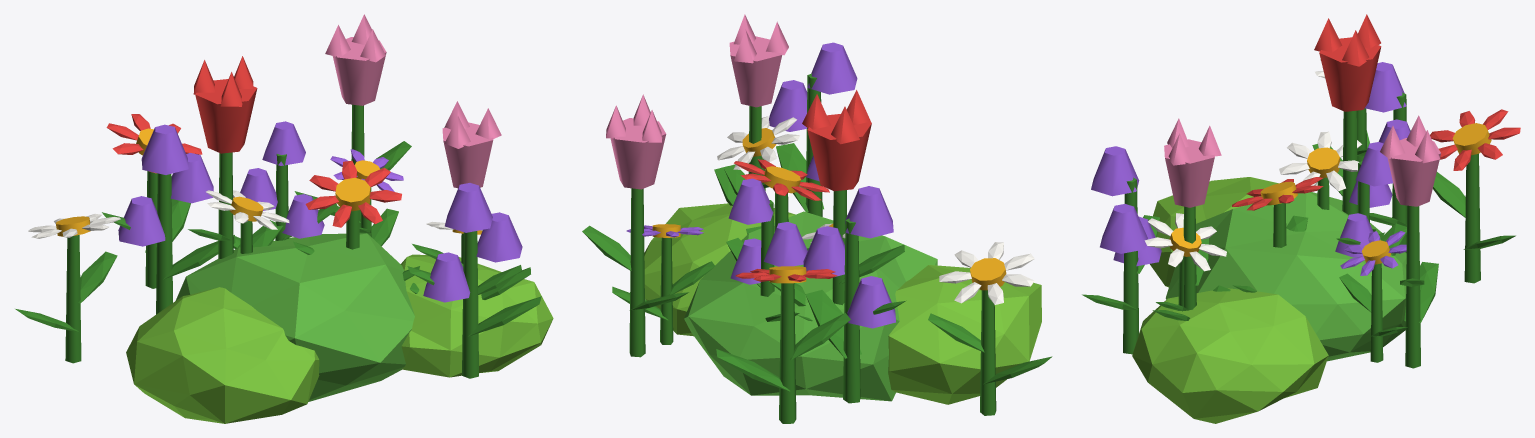
The model's file is macizo_flores_v1.glb.
3 renders of one model, left to right at view 1: azimuth 30°, elevation 25°; view 2: azimuth 150°, elevation 25°; view 3: azimuth 270°, elevation 25°, orthographic. The views are drawn at different scales.
Parts seen in each view (by area): view 1: mata_1, mata_3, tallo (×7), mata_2, copa (×3), campana_1 (×3), campana_3 (×3), campana_2 (×3), hoja_1 (×4), centro (×2), hoja_2 (×2); view 2: mata_1, tallo (×10), mata_3, copa (×3), mata_2, campana_1 (×3), campana_2 (×3), hoja_2 (×5), hoja_1 (×4), campana_3 (×2), centro (×4), punta_3 (×2) (+2 smaller); view 3: mata_2, mata_1, tallo (×10), copa (×3), campana_1 (×3), centro (×5), mata_3, campana_2 (×3), campana_3 (×2), hoja_2 (×2), punta_2 (×2), punta_1 (×2) (+2 smaller).
Boxes of the visible parts, box(x1,y1,x2,y2) form: mata_1: box(175, 233, 414, 401); mata_3: box(126, 287, 319, 423); tallo (×7): box(65, 104, 478, 378); mata_2: box(401, 254, 553, 377); copa (×3): box(195, 37, 493, 188); campana_1 (×3): box(141, 121, 492, 232); campana_3 (×3): box(118, 194, 470, 302); campana_2 (×3): box(170, 153, 522, 262); hoja_1 (×4): box(145, 199, 541, 336); centro (×2): box(229, 177, 370, 221); hoja_2 (×2): box(78, 251, 521, 303); mata_1: box(684, 211, 937, 401); tallo (×10): box(629, 73, 996, 423); mata_3: box(888, 265, 1041, 404); copa (×3): box(610, 36, 871, 191); mata_2: box(644, 203, 795, 336); campana_1 (×3): box(728, 42, 893, 238); campana_2 (×3): box(764, 80, 844, 276); hoja_2 (×5): box(582, 225, 984, 359); hoja_1 (×4): box(716, 143, 1052, 391); campana_3 (×2): box(730, 238, 895, 328); centro (×4): box(742, 128, 1006, 290); punta_3 (×2): box(734, 30, 859, 144); mata_2: box(1132, 288, 1328, 423); mata_1: box(1165, 192, 1406, 361); tallo (×10): box(1123, 92, 1480, 368); copa (×3): box(1164, 37, 1440, 207); campana_1 (×3): box(1091, 62, 1406, 196); centro (×5): box(1169, 123, 1491, 264); mata_3: box(1150, 177, 1278, 287); campana_2 (×3): box(1100, 119, 1410, 253); campana_3 (×2): box(1113, 213, 1373, 266); hoja_2 (×2): box(1339, 172, 1465, 312); punta_2 (×2): box(1314, 18, 1440, 163); punta_1 (×2): box(1168, 30, 1369, 165).
Size of the model in its own units: 2.01 by 1.31 by 1.7.
